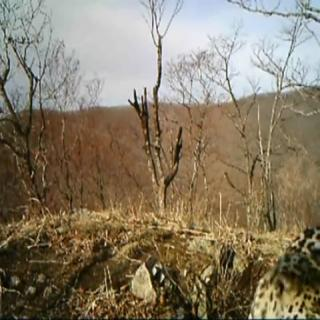Leopard: (243, 212, 320, 319)
